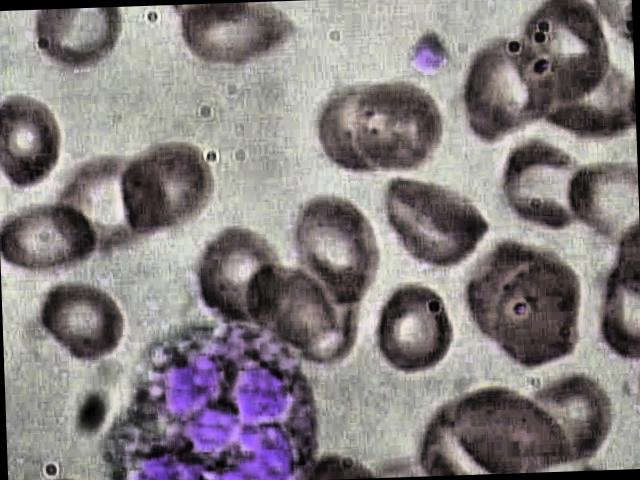Platelets: (408, 32, 458, 79)
RBC: (486, 253, 594, 374), (378, 170, 496, 278), (114, 130, 222, 242), (457, 38, 563, 150), (444, 382, 571, 475), (284, 197, 390, 307), (190, 223, 296, 333), (353, 75, 449, 186), (499, 136, 603, 238), (175, 1, 298, 77), (37, 274, 124, 372), (372, 278, 458, 376), (0, 197, 103, 277), (0, 92, 82, 190)
WBC: (98, 318, 323, 480)
